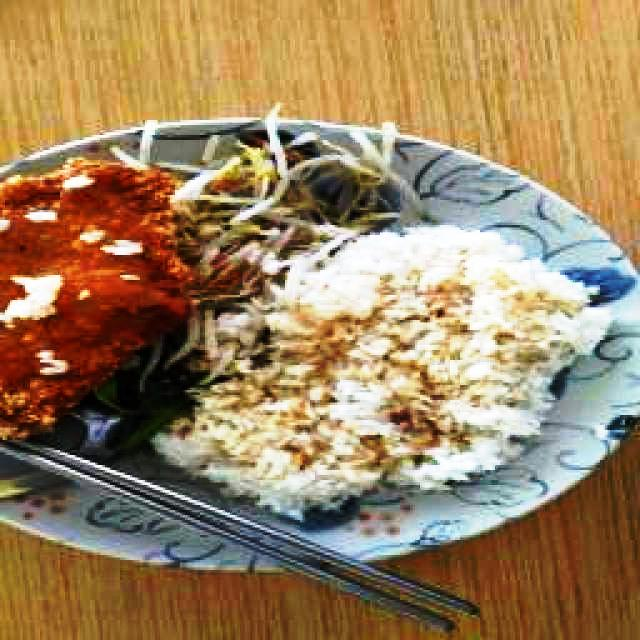fried_chicken: (1, 159, 188, 441)
mung_bean_sprouts: (120, 107, 426, 295)
rice: (158, 227, 611, 516), (4, 274, 64, 321), (40, 350, 70, 377), (102, 240, 143, 255), (23, 211, 57, 221), (63, 177, 93, 187), (82, 232, 107, 241), (120, 273, 138, 283), (1, 214, 9, 232), (78, 289, 90, 299)
water_spinach: (95, 339, 192, 463)
